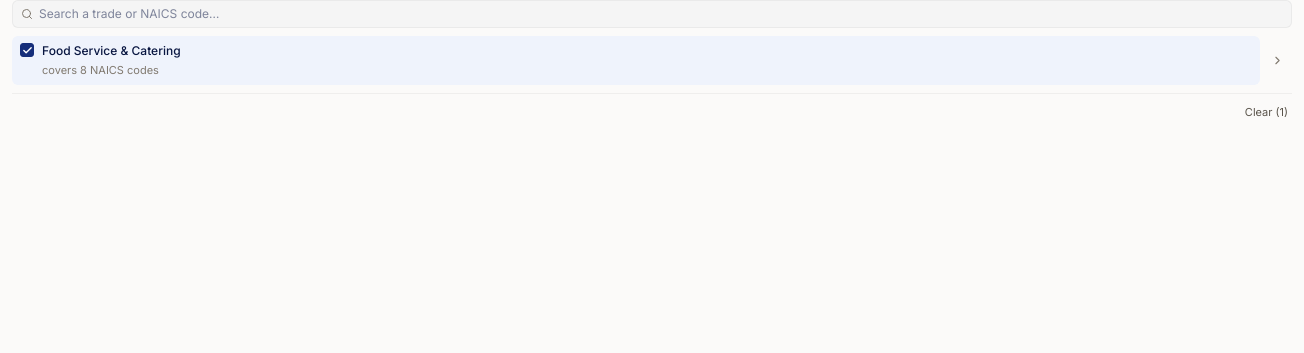
Test case: WorkPicker — NAICS descriptions › shows the bare code when the taxonomy does not resolve it
Click the button named "Fine-tune codes" at (1277, 60), box [1262,36,1292,84]
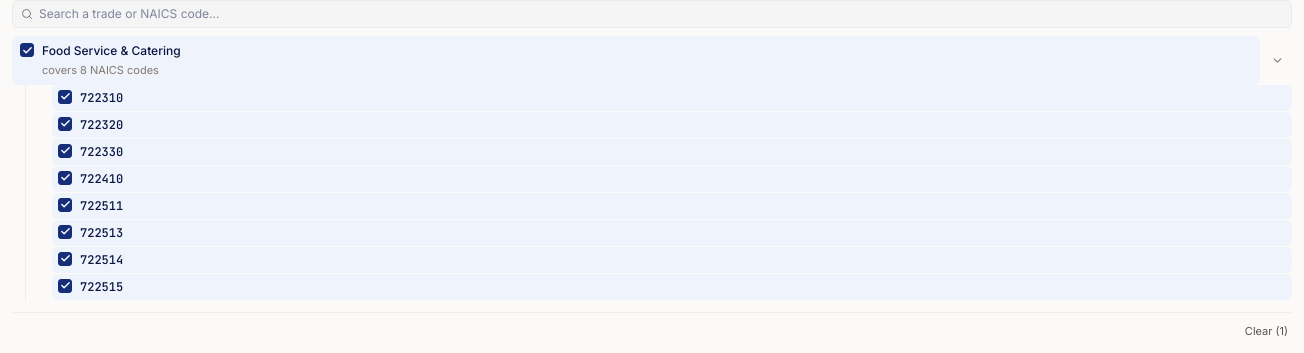
Result: the text "722310" is shown at [80,88,123,106]
